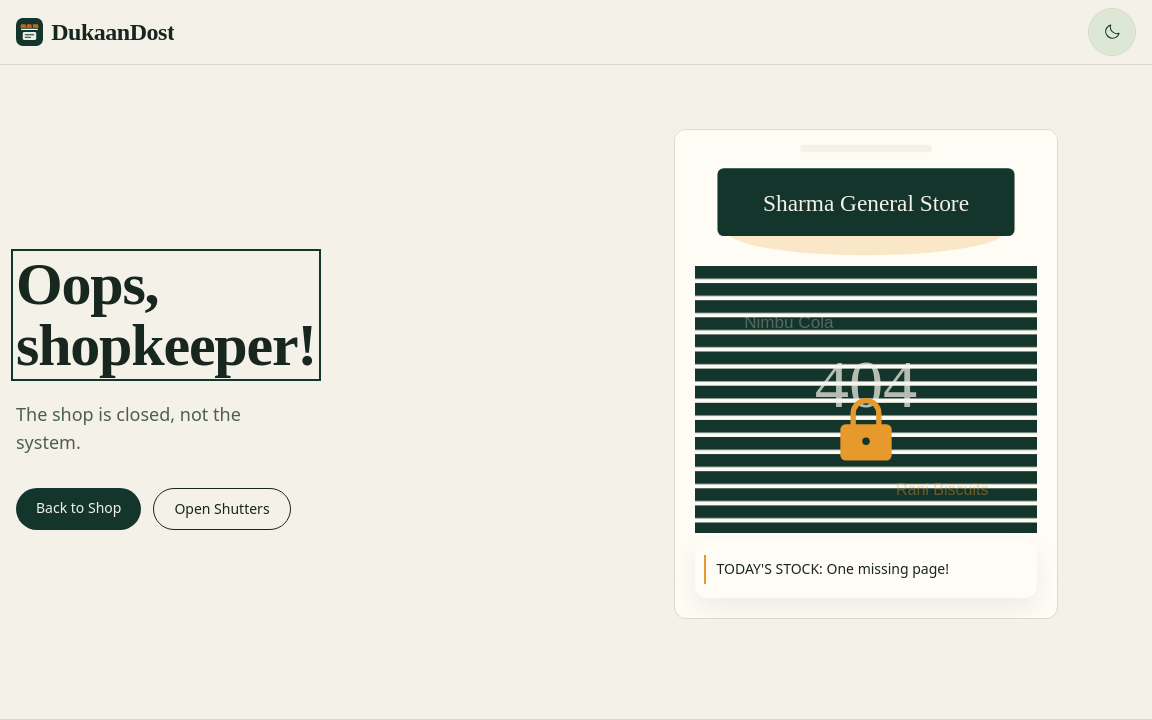
Scenario: not found › shows the message without animating when motion is reduced
Click the button with aria-label "Rattle the closed shop shutter" at (866, 399), box [695,266,1037,533]
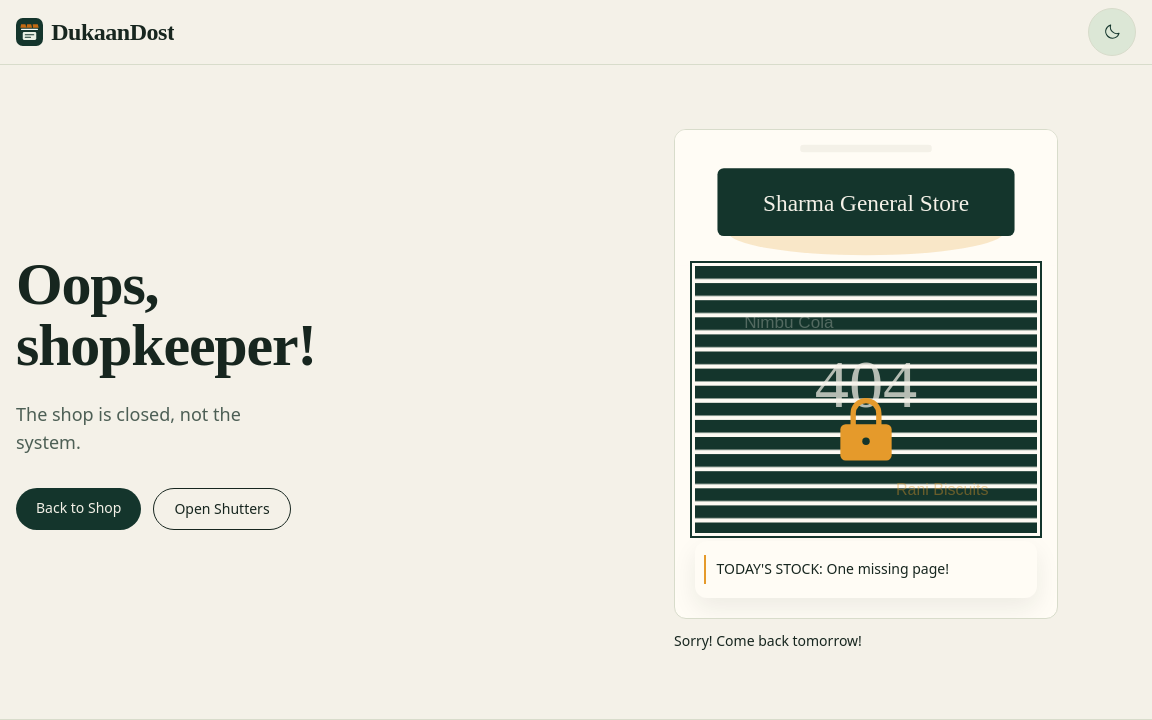
Expected: the text "Sorry! Come back tomorrow!" is shown, [674,631,862,650]
